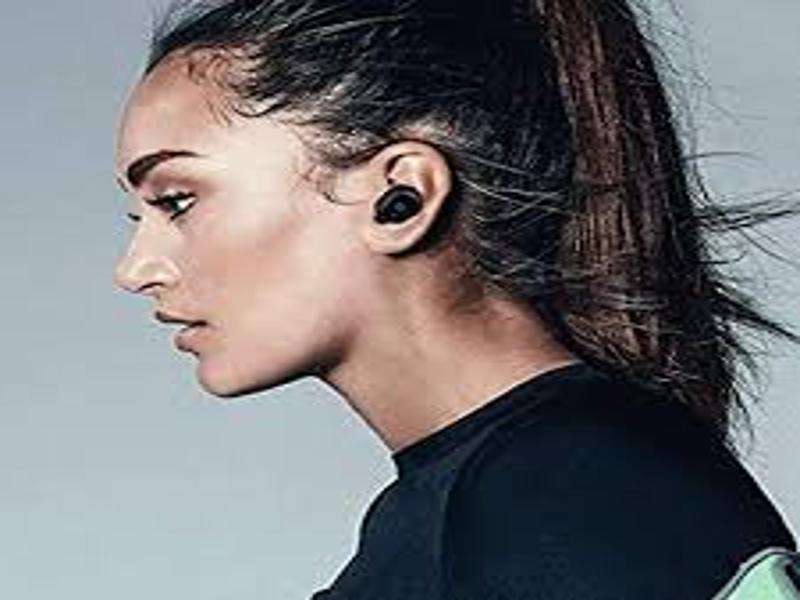headphone: (374, 185, 425, 228)
